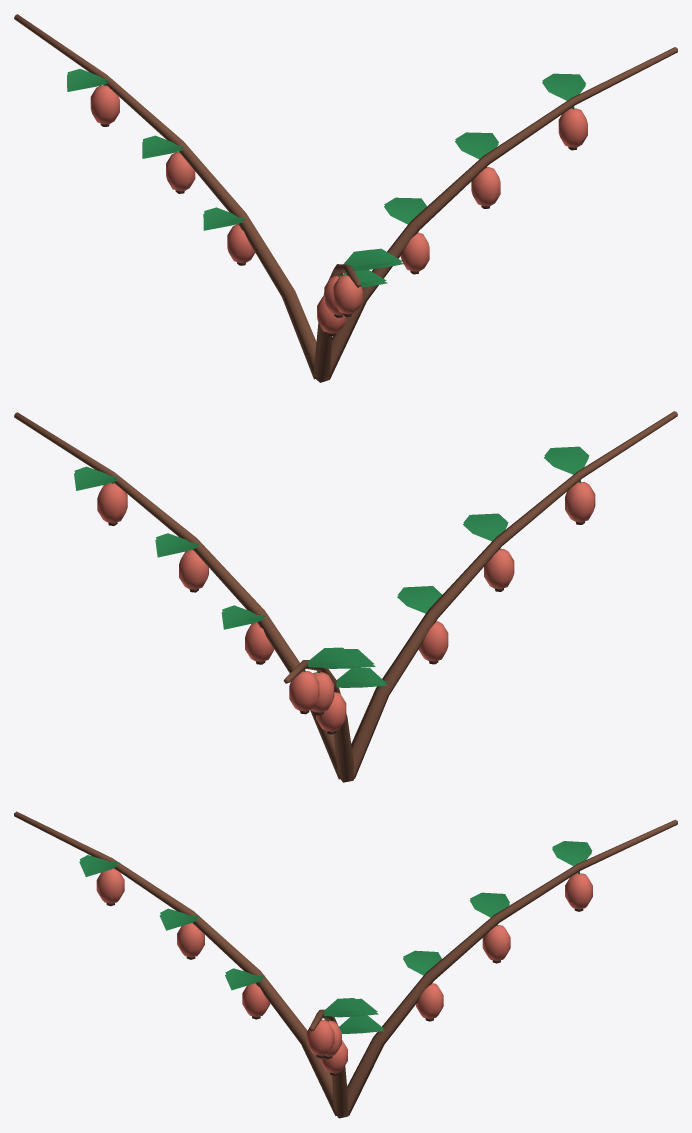
File: ing_rose_hip.gltf
3 views of the same model, one above another, from view 1: azimuth 30°, elevation 25°; view 2: azimuth 150°, elevation 25°; view 3: azimuth 270°, elevation 25° (orthographic). The views are drawn at different scales.
Visible parts, largest first — view 1: ing_rose_hip; view 2: ing_rose_hip; view 3: ing_rose_hip.
Part boxes in pixels (x1,y1,x2,y2): ing_rose_hip: (14,14,677,382); ing_rose_hip: (14,411,677,782); ing_rose_hip: (14,811,677,1118).
Size of what is drawn, in the model's own units: 0.5588 by 0.2898 by 0.7244.
